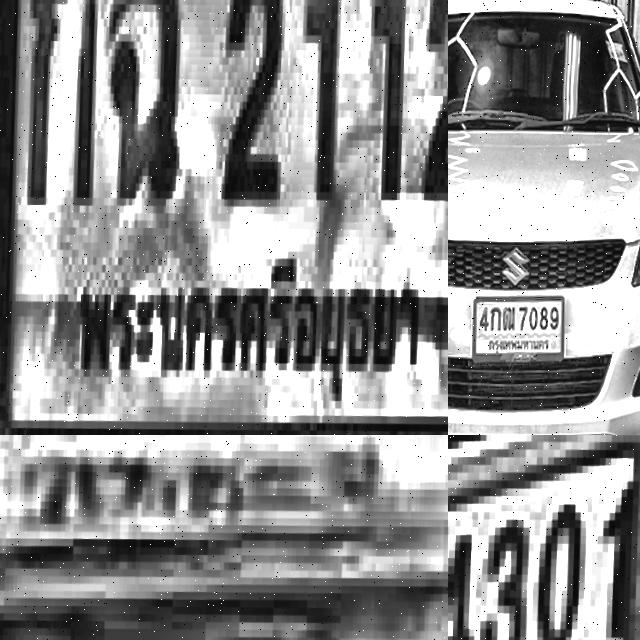license-plate: (0, 0, 448, 435), (0, 435, 448, 640), (448, 435, 640, 640), (467, 294, 566, 372)
